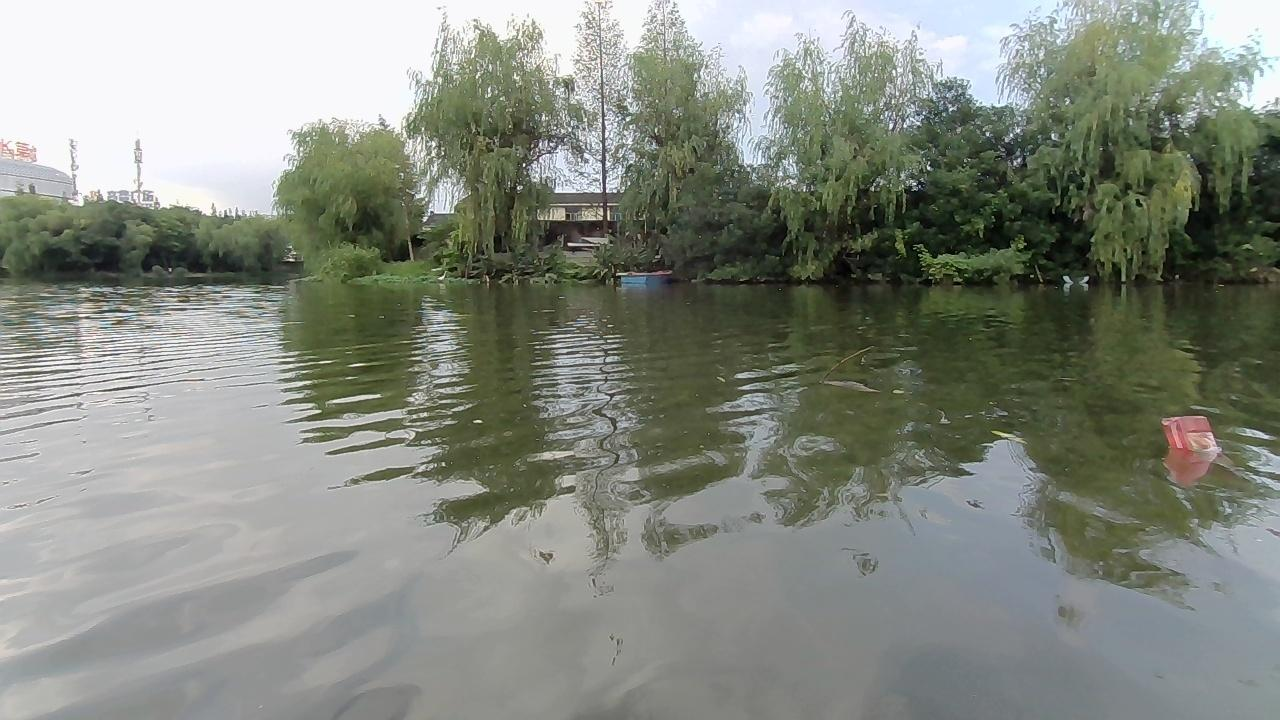bottle: (1161, 411, 1228, 457)
